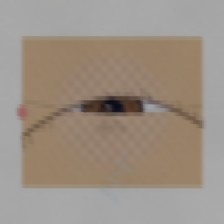foreign_body_visible: (101, 98, 150, 137)
